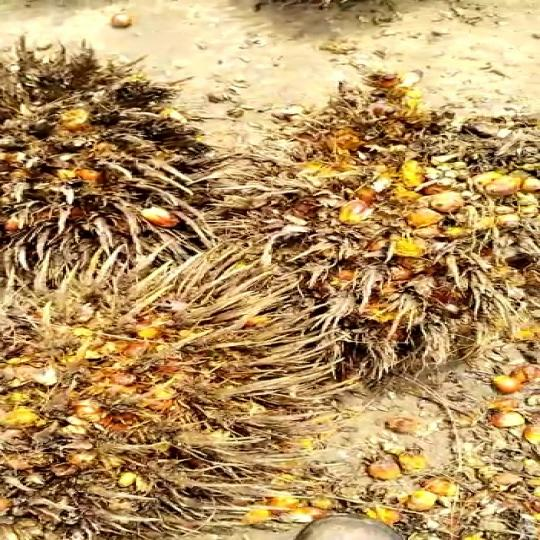terlalu masak: (270, 118, 538, 378), (0, 53, 202, 257)
